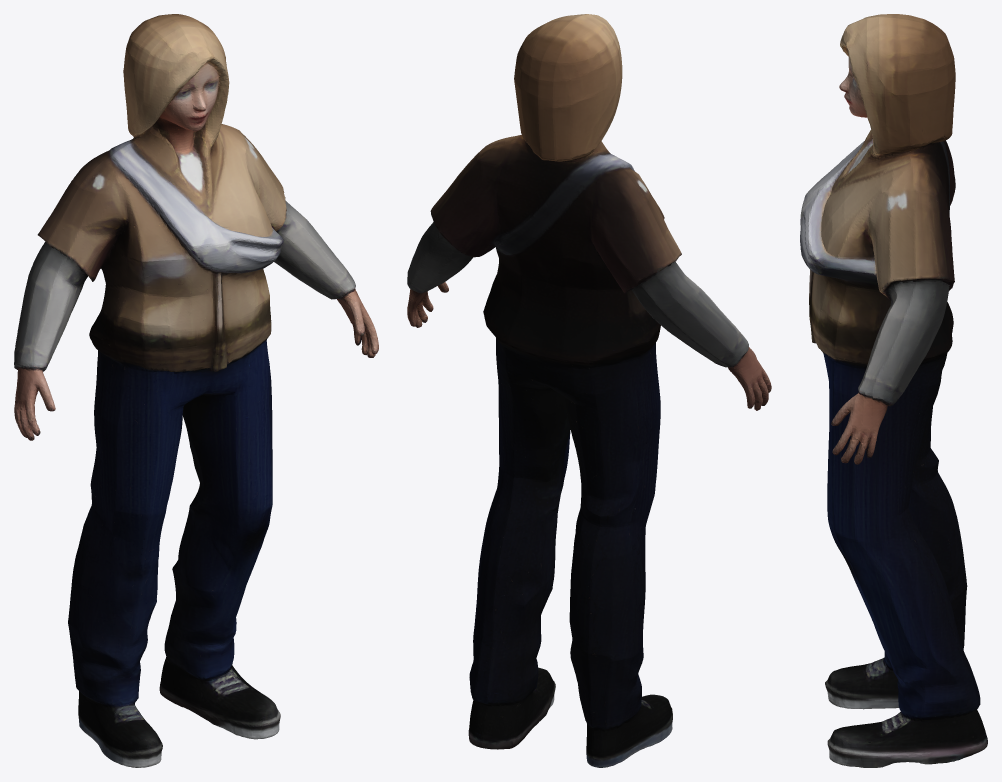
File: 06_tar.glb
3 views of the same model, side by side, from view 1: azimuth 30°, elevation 25°; view 2: azimuth 150°, elevation 25°; view 3: azimuth 270°, elevation 25° (orthographic).
Parts seen in each view (by area): view 1: world; view 2: world; view 3: world.
Boxes of the visible parts, bbox=[...] form: world: bbox=[14, 14, 378, 767]; world: bbox=[407, 14, 771, 767]; world: bbox=[800, 14, 987, 767].
Bounding box in the file's own units: 0.5222 × 1 × 0.2399.
1 material, 1 textured.
